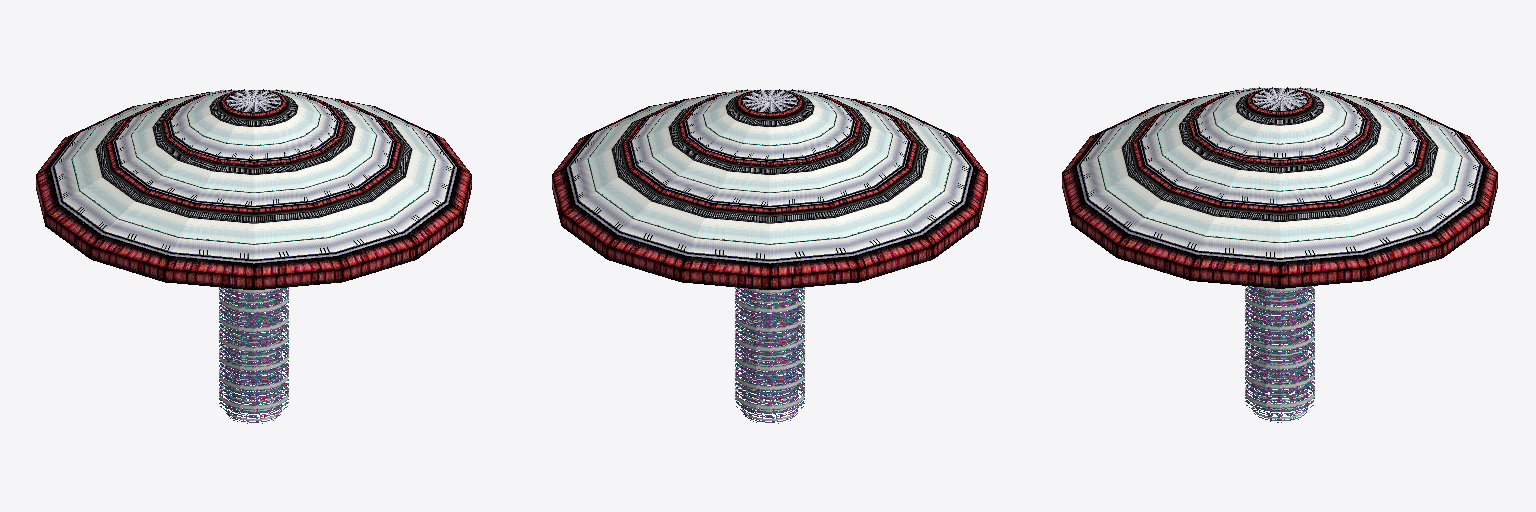
3 views of the same model, side by side, from view 1: azimuth 30°, elevation 25°; view 2: azimuth 150°, elevation 25°; view 3: azimuth 270°, elevation 25° (orthographic).
Parts seen in each view (by area): view 1: Mesh_0028; view 2: Mesh_0028; view 3: Mesh_0028.
Part boxes in pixels (left/top/right/bottom): Mesh_0028: left=36, top=89, right=471, bottom=423; Mesh_0028: left=552, top=89, right=987, bottom=423; Mesh_0028: left=1062, top=87, right=1497, bottom=422.
Size of the model in its own units: 37.16 by 29.45 by 37.37.
Materials: 5 (5 with a texture image).